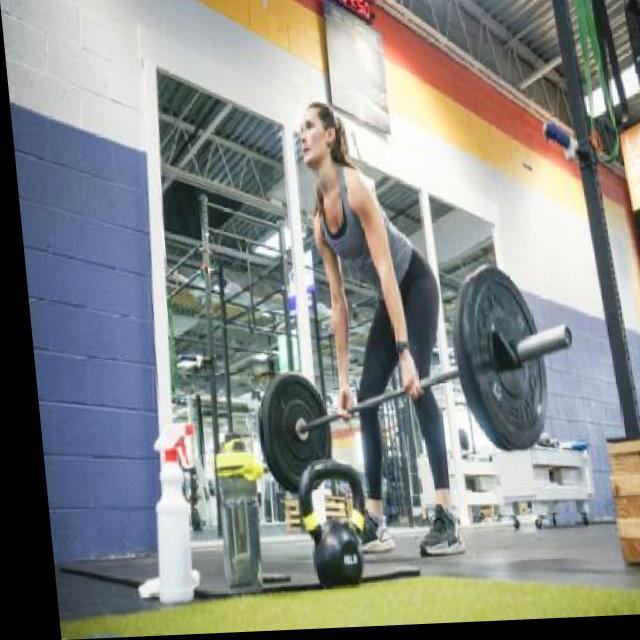barbell: (451, 266, 577, 463)
